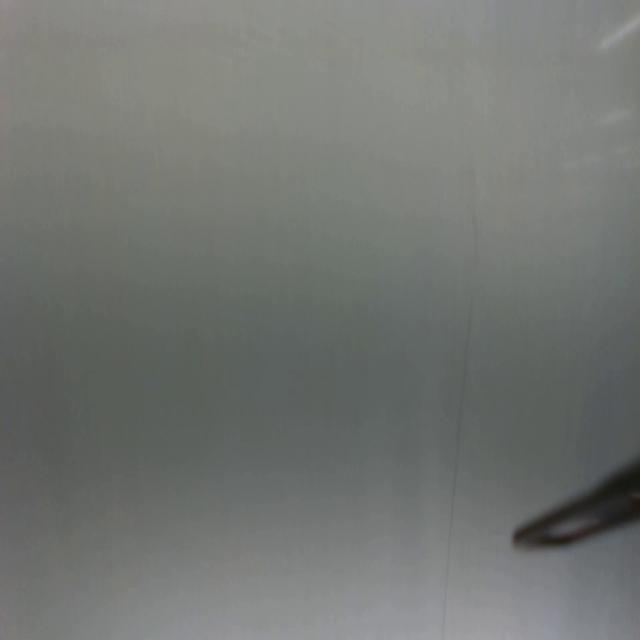crease: (438, 289, 478, 640)
